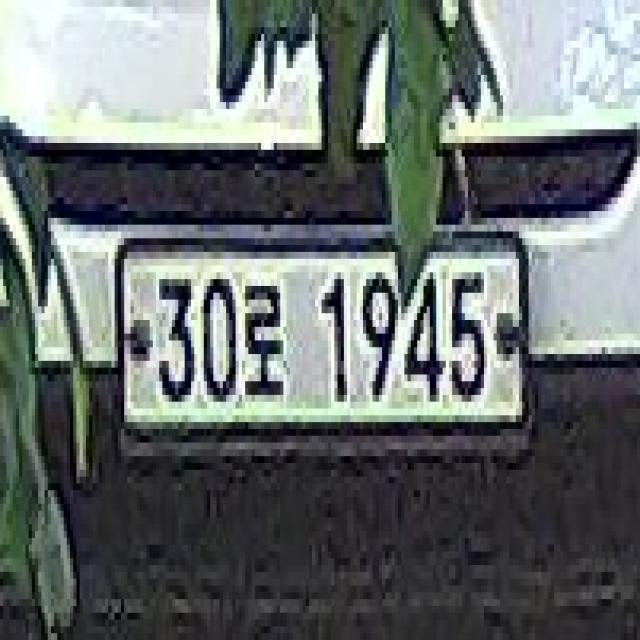0: (197, 279, 239, 402)
1: (318, 272, 351, 402)
3: (160, 272, 198, 408)
4: (398, 272, 446, 408)
5: (449, 266, 487, 402)
9: (360, 266, 398, 402)
license_plate: (108, 211, 532, 463)
lo: (239, 279, 283, 402)
